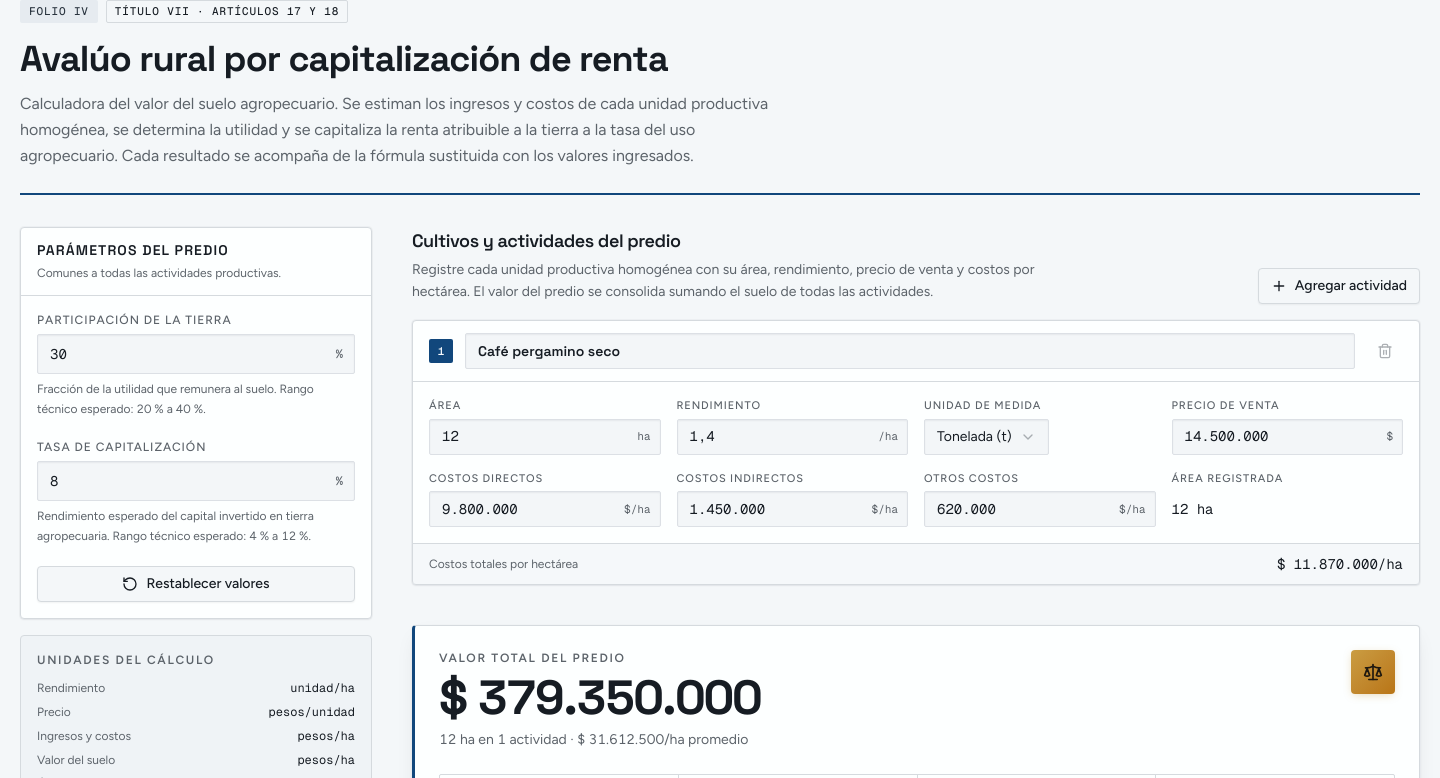
Scenario: AvaluoRuralPage › agrega una actividad y muestra el estado vacío mientras no es calculable
Step 1. Click the button with test id "rural.add_cultivo_button" → point(1339, 286), box x1=1258 y1=268 x2=1420 y2=304
(page scrolled)
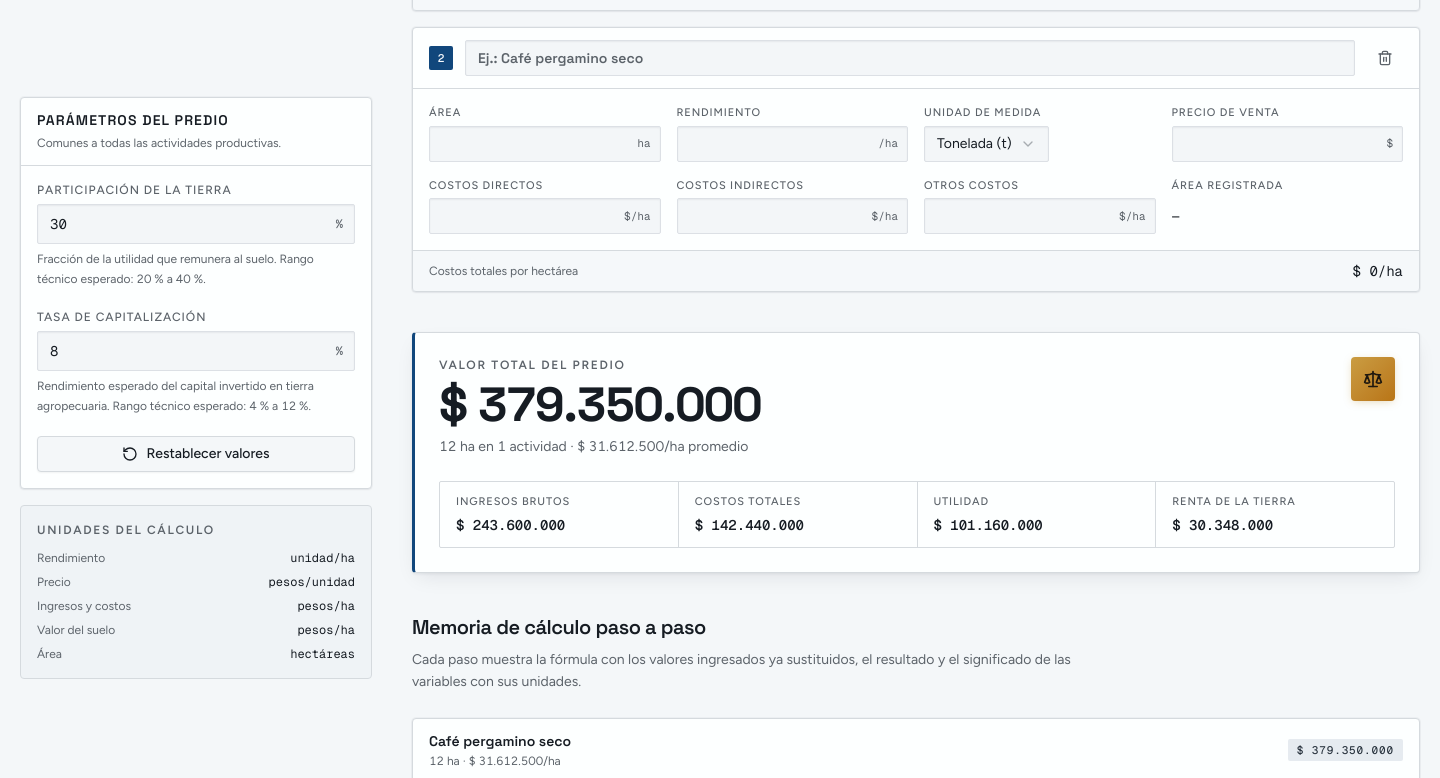
Expected: the text "$ 379.350.000" below "Valor total del predio" is shown, x1=439 y1=374 x2=761 y2=435
Expected: the element with test id "rural.cultivo.card.2" is shown, x1=412 y1=27 x2=1420 y2=292
